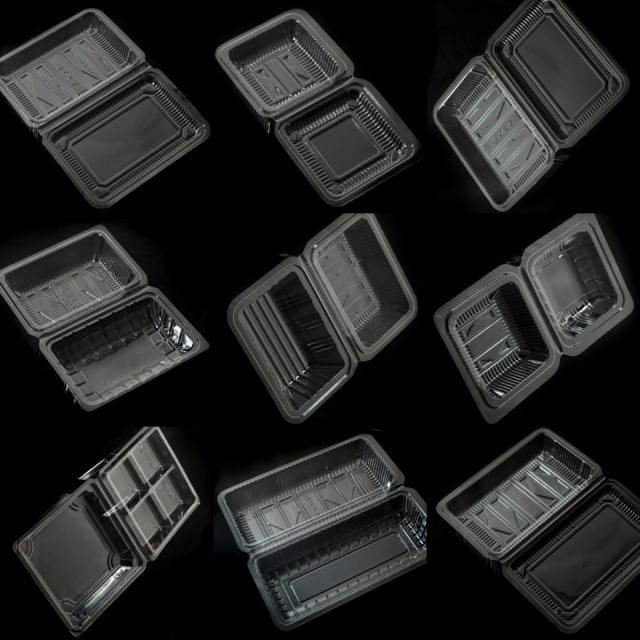Single-Use-Plastic: (0, 9, 210, 207), (434, 0, 629, 211), (438, 429, 640, 632), (434, 215, 632, 422), (218, 435, 426, 630), (215, 10, 420, 206), (229, 215, 416, 422), (0, 225, 209, 410), (15, 428, 199, 634)
